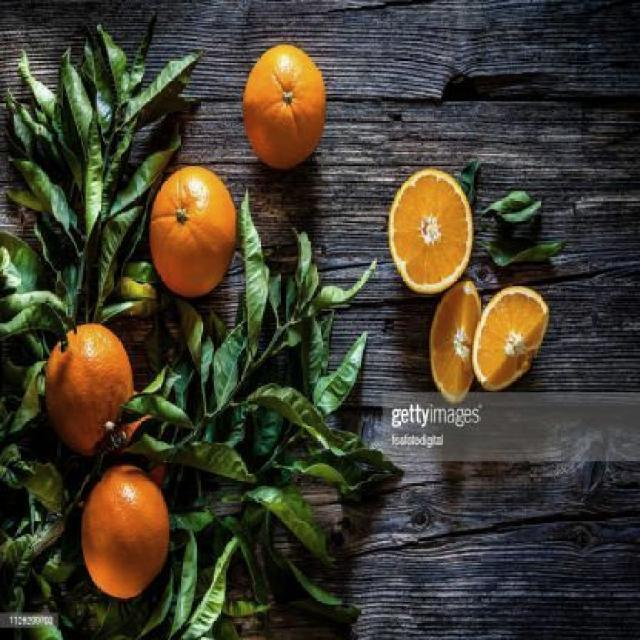Jeruk Sudah Matang: (81, 464, 172, 602), (42, 322, 135, 456), (147, 165, 235, 298), (244, 39, 328, 172)
